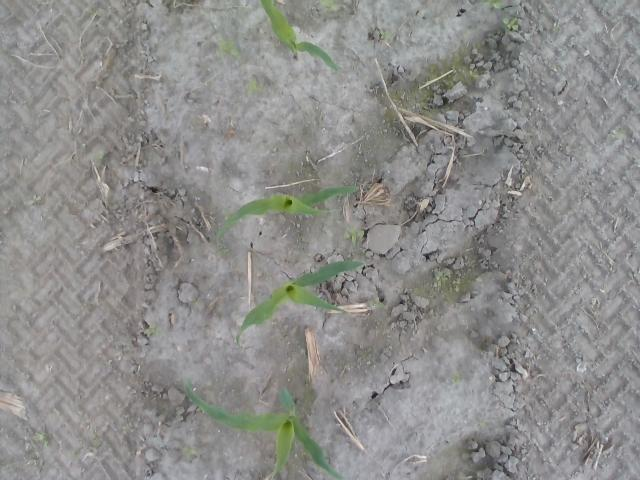Maize: (179, 378, 332, 479), (236, 256, 367, 350), (215, 183, 361, 248), (260, 1, 338, 75)
Weeds: (433, 272, 462, 295), (32, 423, 52, 447), (342, 226, 364, 246), (217, 40, 238, 56), (144, 326, 164, 340), (246, 78, 261, 96), (504, 16, 520, 30), (482, 0, 502, 10), (181, 447, 197, 459), (320, 1, 338, 10), (612, 130, 628, 139), (373, 298, 387, 308), (28, 196, 43, 205), (380, 29, 392, 39), (98, 149, 106, 158), (552, 22, 562, 29), (452, 376, 460, 383), (195, 298, 202, 306)
